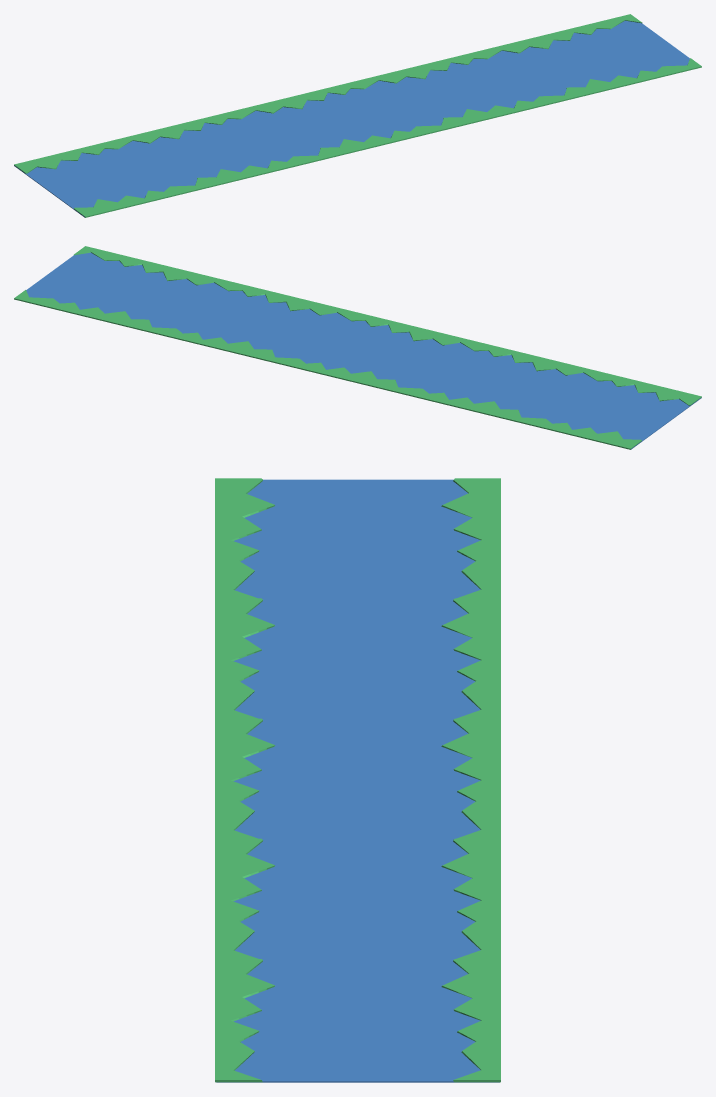
The model's file is Water.glb.
The picture shows the model from 3 angles, top to bottom: view 1: azimuth 30°, elevation 25°; view 2: azimuth 150°, elevation 25°; view 3: azimuth 270°, elevation 25°; orthographic projection. The views are drawn at different scales.
Visible parts, largest first — view 1: Cube.012, Cube.002, Cube.008, Cube.003, Cube.009, Cube.014, Cube, Cube.006, Cube.005, Cube.011, Cube.013, Cube.001 (+3 smaller); view 2: Cube.012, Cube.002, Cube.008, Cube.003, Cube.009, Cube.013, Cube.001, Cube.004, Cube.007, Cube.010, Cube, Cube.014 (+3 smaller); view 3: Cube.002, Cube.008, Cube.003, Cube.012, Cube.009, Cube.001, Cube, Cube.007, Cube.006, Cube.004, Cube.013, Cube.005 (+3 smaller).
Boxes of the visible parts, x1,y1,x2,y2 form: Cube.012: [14, 141, 197, 217]; Cube.002: [519, 20, 689, 88]; Cube.008: [150, 110, 320, 178]; Cube.003: [396, 50, 566, 117]; Cube.009: [273, 80, 443, 147]; Cube.014: [74, 179, 209, 217]; Cube: [566, 58, 701, 97]; Cube.006: [197, 148, 332, 187]; Cube.005: [443, 89, 577, 127]; Cube.011: [320, 119, 454, 157]; Cube.013: [14, 134, 149, 173]; Cube.001: [507, 14, 642, 53]; Cube.012: [519, 373, 701, 449]; Cube.002: [26, 252, 197, 320]; Cube.008: [396, 343, 566, 410]; Cube.003: [149, 282, 320, 350]; Cube.009: [273, 312, 442, 379]; Cube.013: [507, 410, 641, 449]; Cube.001: [14, 290, 149, 329]; Cube.004: [137, 320, 271, 359]; Cube.007: [384, 380, 518, 419]; Cube.010: [261, 350, 395, 389]; Cube: [74, 246, 208, 285]; Cube.014: [568, 366, 701, 405]; Cube.002: [216, 960, 499, 1082]; Cube.008: [233, 599, 480, 720]; Cube.003: [233, 840, 480, 961]; Cube.012: [234, 479, 480, 600]; Cube.009: [233, 721, 480, 839]; Cube.001: [441, 959, 500, 1082]; Cube: [215, 959, 274, 1082]; Cube.007: [441, 598, 500, 719]; Cube.006: [215, 598, 274, 719]; Cube.004: [441, 838, 500, 960]; Cube.013: [441, 478, 500, 599]; Cube.005: [215, 838, 274, 959].
Size of the model in its own units: 5 by 0.0104 by 1.
